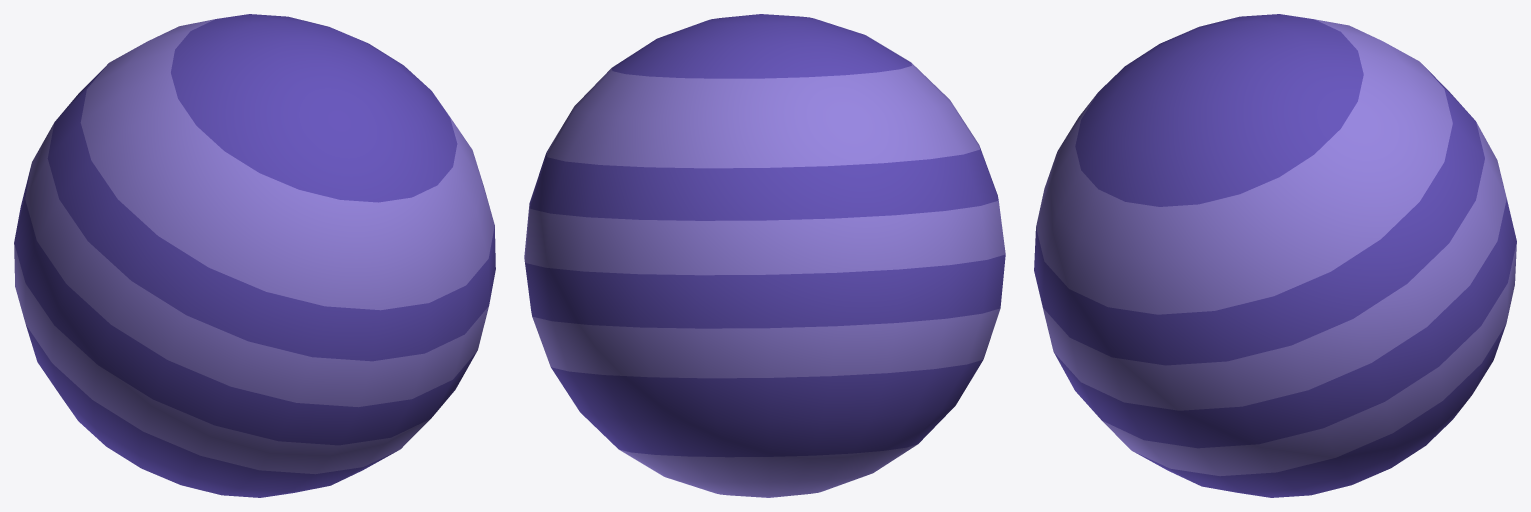
The model's file is Planet_Stripe.fbx.
The picture shows the model from 3 angles, left to right: view 1: azimuth 30°, elevation 25°; view 2: azimuth 150°, elevation 25°; view 3: azimuth 270°, elevation 25°; orthographic projection.
Visible parts, largest first — view 1: Planet_Stripe; view 2: Planet_Stripe; view 3: Planet_Stripe.
Part boxes in pixels (box(x1,y1,x2,y2)): Planet_Stripe: box(14, 14, 495, 497); Planet_Stripe: box(524, 14, 1005, 497); Planet_Stripe: box(1034, 14, 1516, 497).
Bounding box in the file's own units: 7.97 × 7.97 × 7.98.
